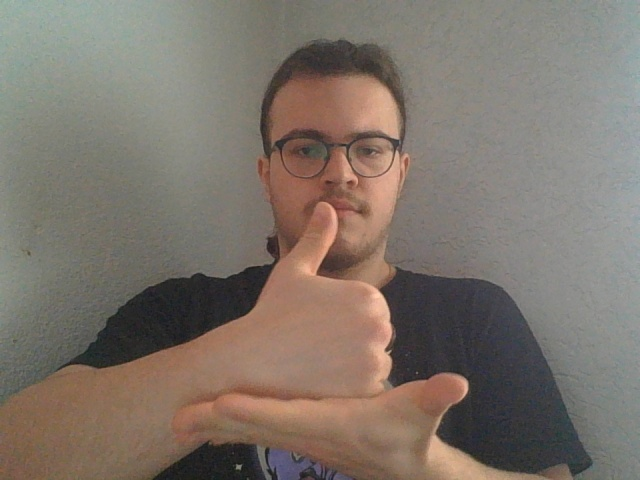Help: (170, 199, 470, 476)
